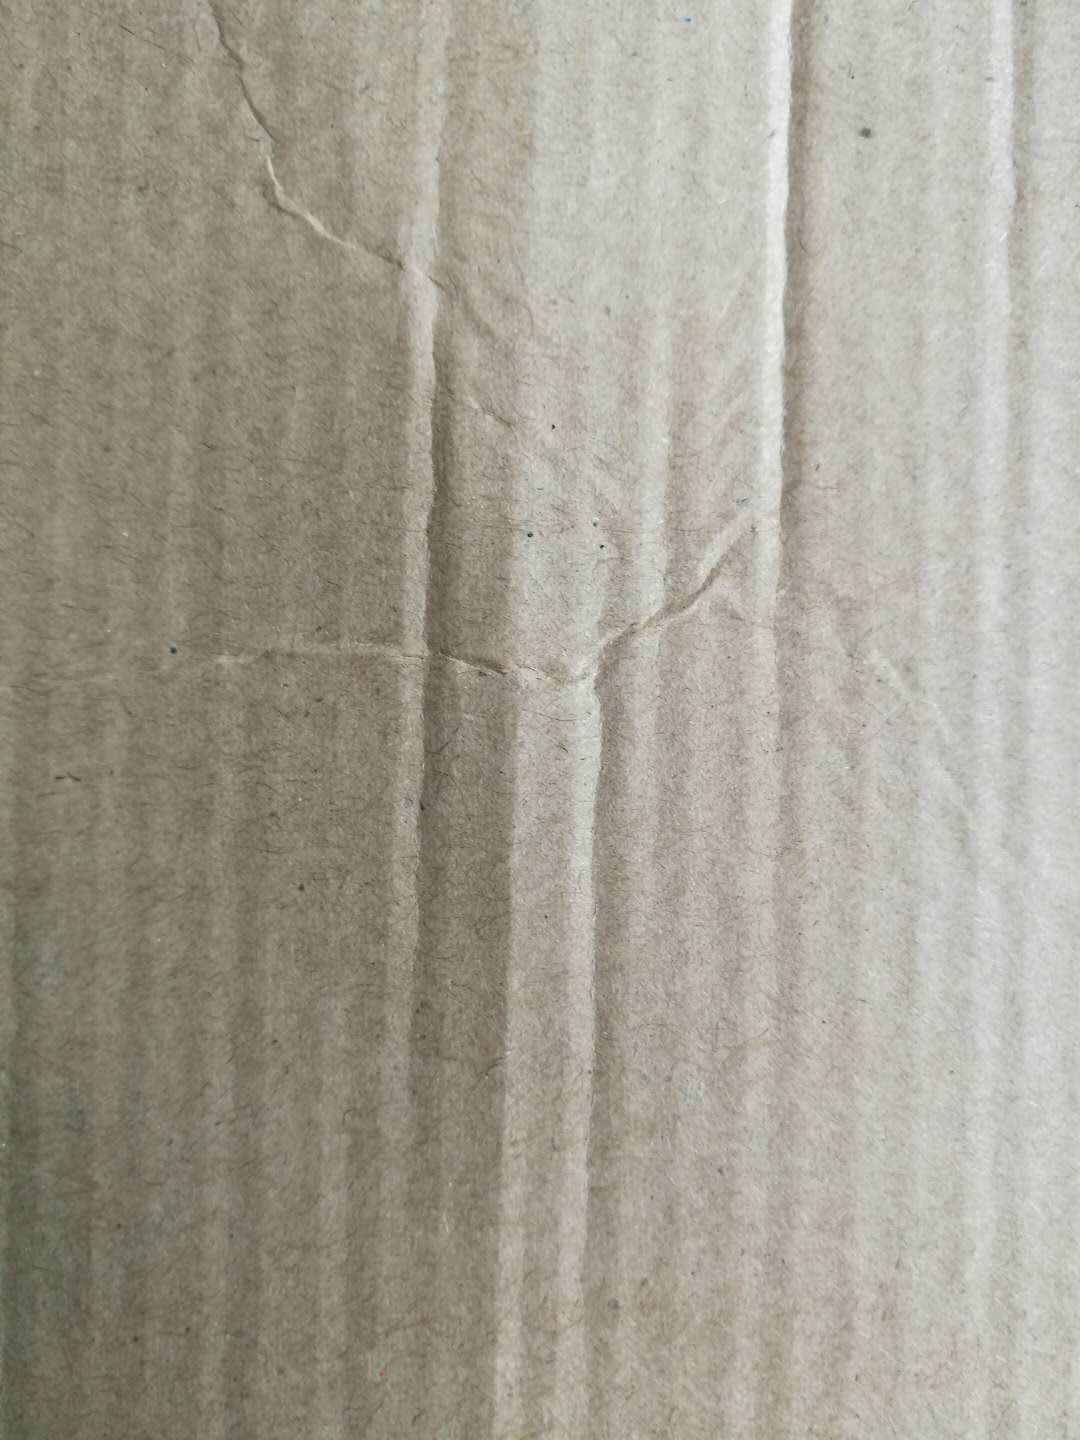defect: (179, 498, 775, 712), (363, 287, 499, 1218), (551, 613, 646, 1425), (748, 5, 845, 604), (982, 1, 1065, 508)
